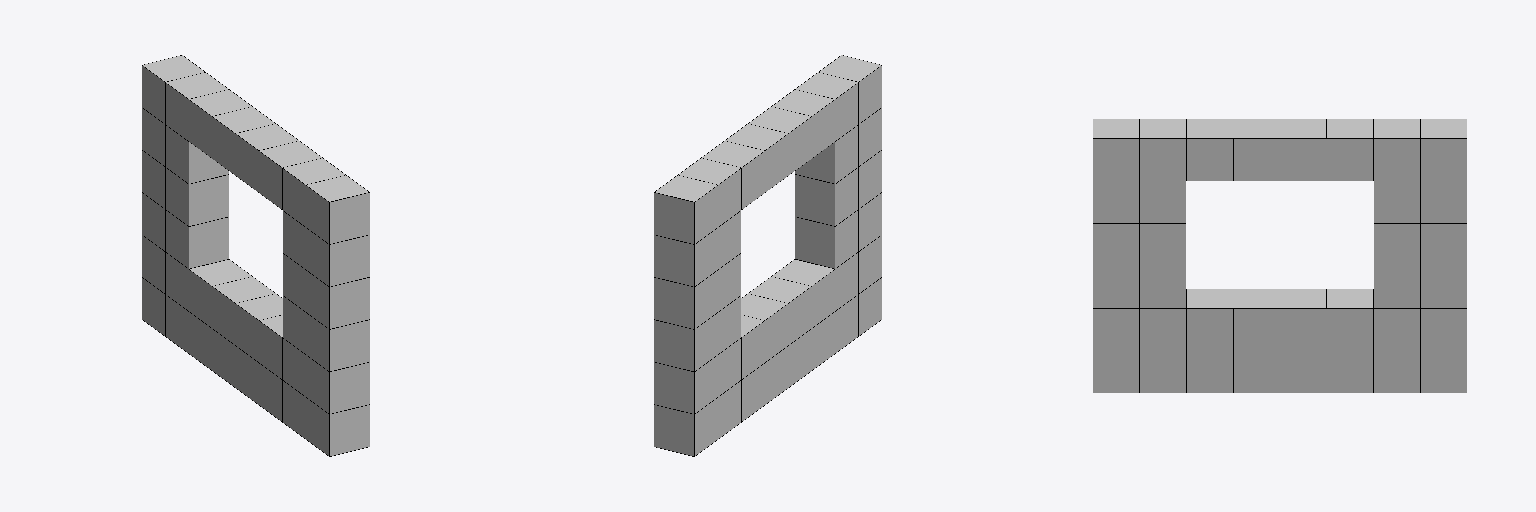
3 renders of one model, left to right at view 1: azimuth 30°, elevation 25°; view 2: azimuth 150°, elevation 25°; view 3: azimuth 270°, elevation 25°, orthographic.
Visible parts, largest first — view 1: wall_loading_area_Cube.004; view 2: wall_loading_area_Cube.004; view 3: wall_loading_area_Cube.004.
Boxes of the visible parts, x1=… form: wall_loading_area_Cube.004: x1=142, y1=55, x2=369, y2=456; wall_loading_area_Cube.004: x1=654, y1=55, x2=881, y2=456; wall_loading_area_Cube.004: x1=1093, y1=119, x2=1466, y2=392.
Bounding box in the file's own units: 2 × 12 × 16.
1 materials, 1 textured.